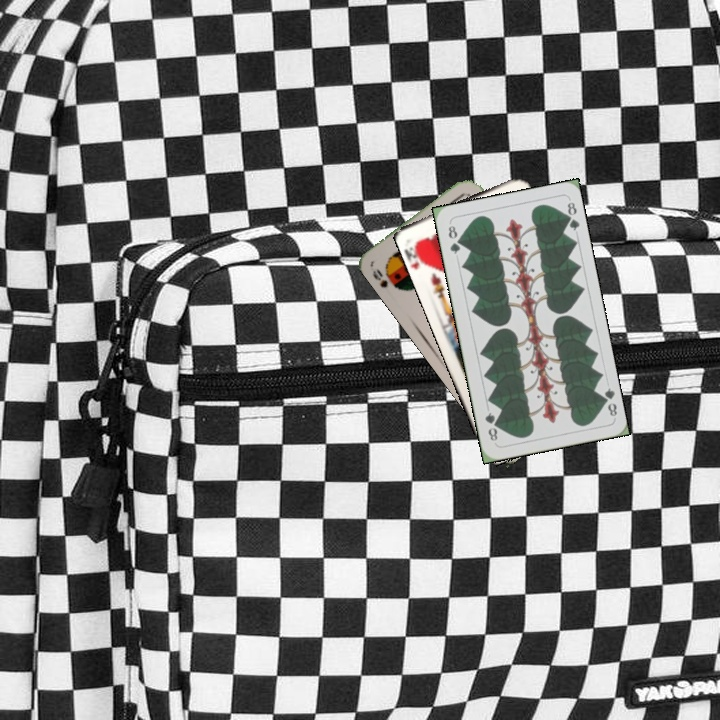G8: (596, 384, 620, 419), (444, 221, 463, 257)
HK: (403, 237, 431, 271)
SO: (368, 265, 390, 290)
